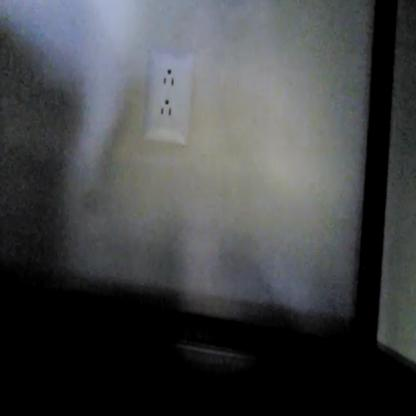OUTLET: (142, 50, 195, 147)
